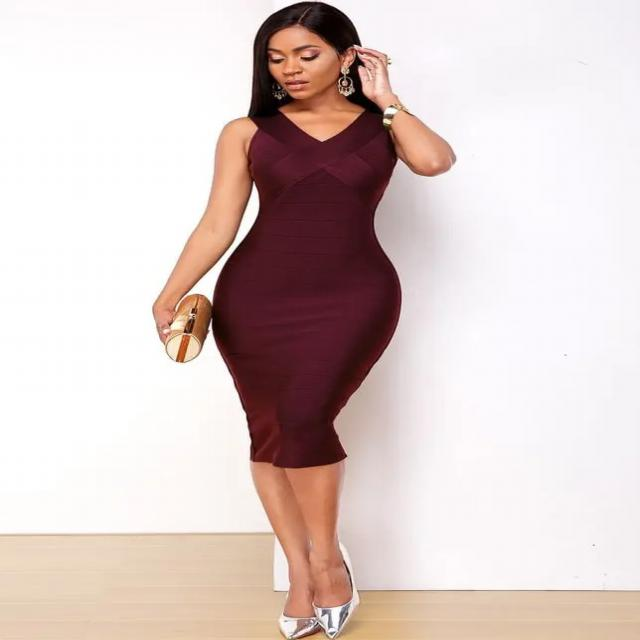clothes: (191, 98, 420, 480)
